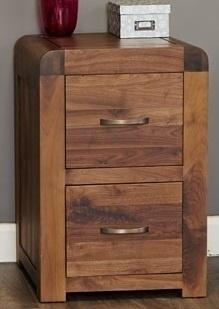cabinet_door: (67, 183, 183, 276), (67, 75, 183, 165)
handle: (98, 220, 150, 241), (98, 117, 149, 132)
